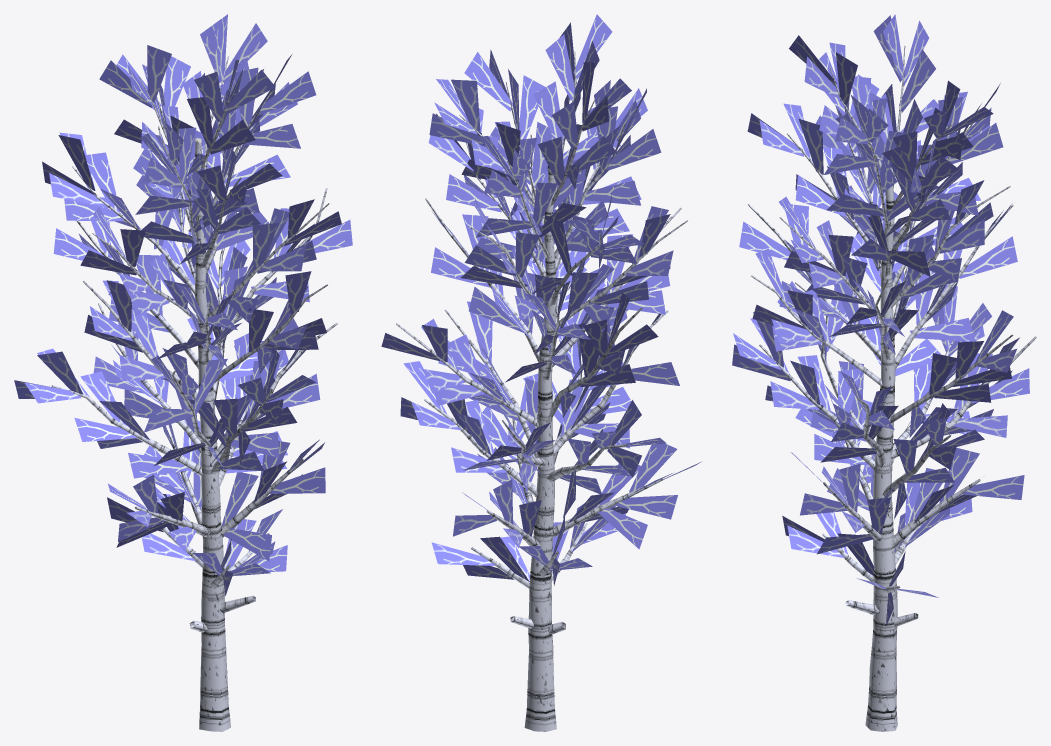
Rendered from Birch_04.fbx.
3 views of the same model, side by side, from view 1: azimuth 30°, elevation 25°; view 2: azimuth 150°, elevation 25°; view 3: azimuth 270°, elevation 25° (orthographic).
Visible parts, largest first — view 1: LOD0; view 2: LOD0; view 3: LOD0.
Part boxes in pixels (bbox=[...]): LOD0: bbox=[14, 14, 352, 731]; LOD0: bbox=[381, 14, 702, 731]; LOD0: bbox=[732, 14, 1036, 731].
Size of what is drawn, in the model's own units: 320 by 758 by 306.
